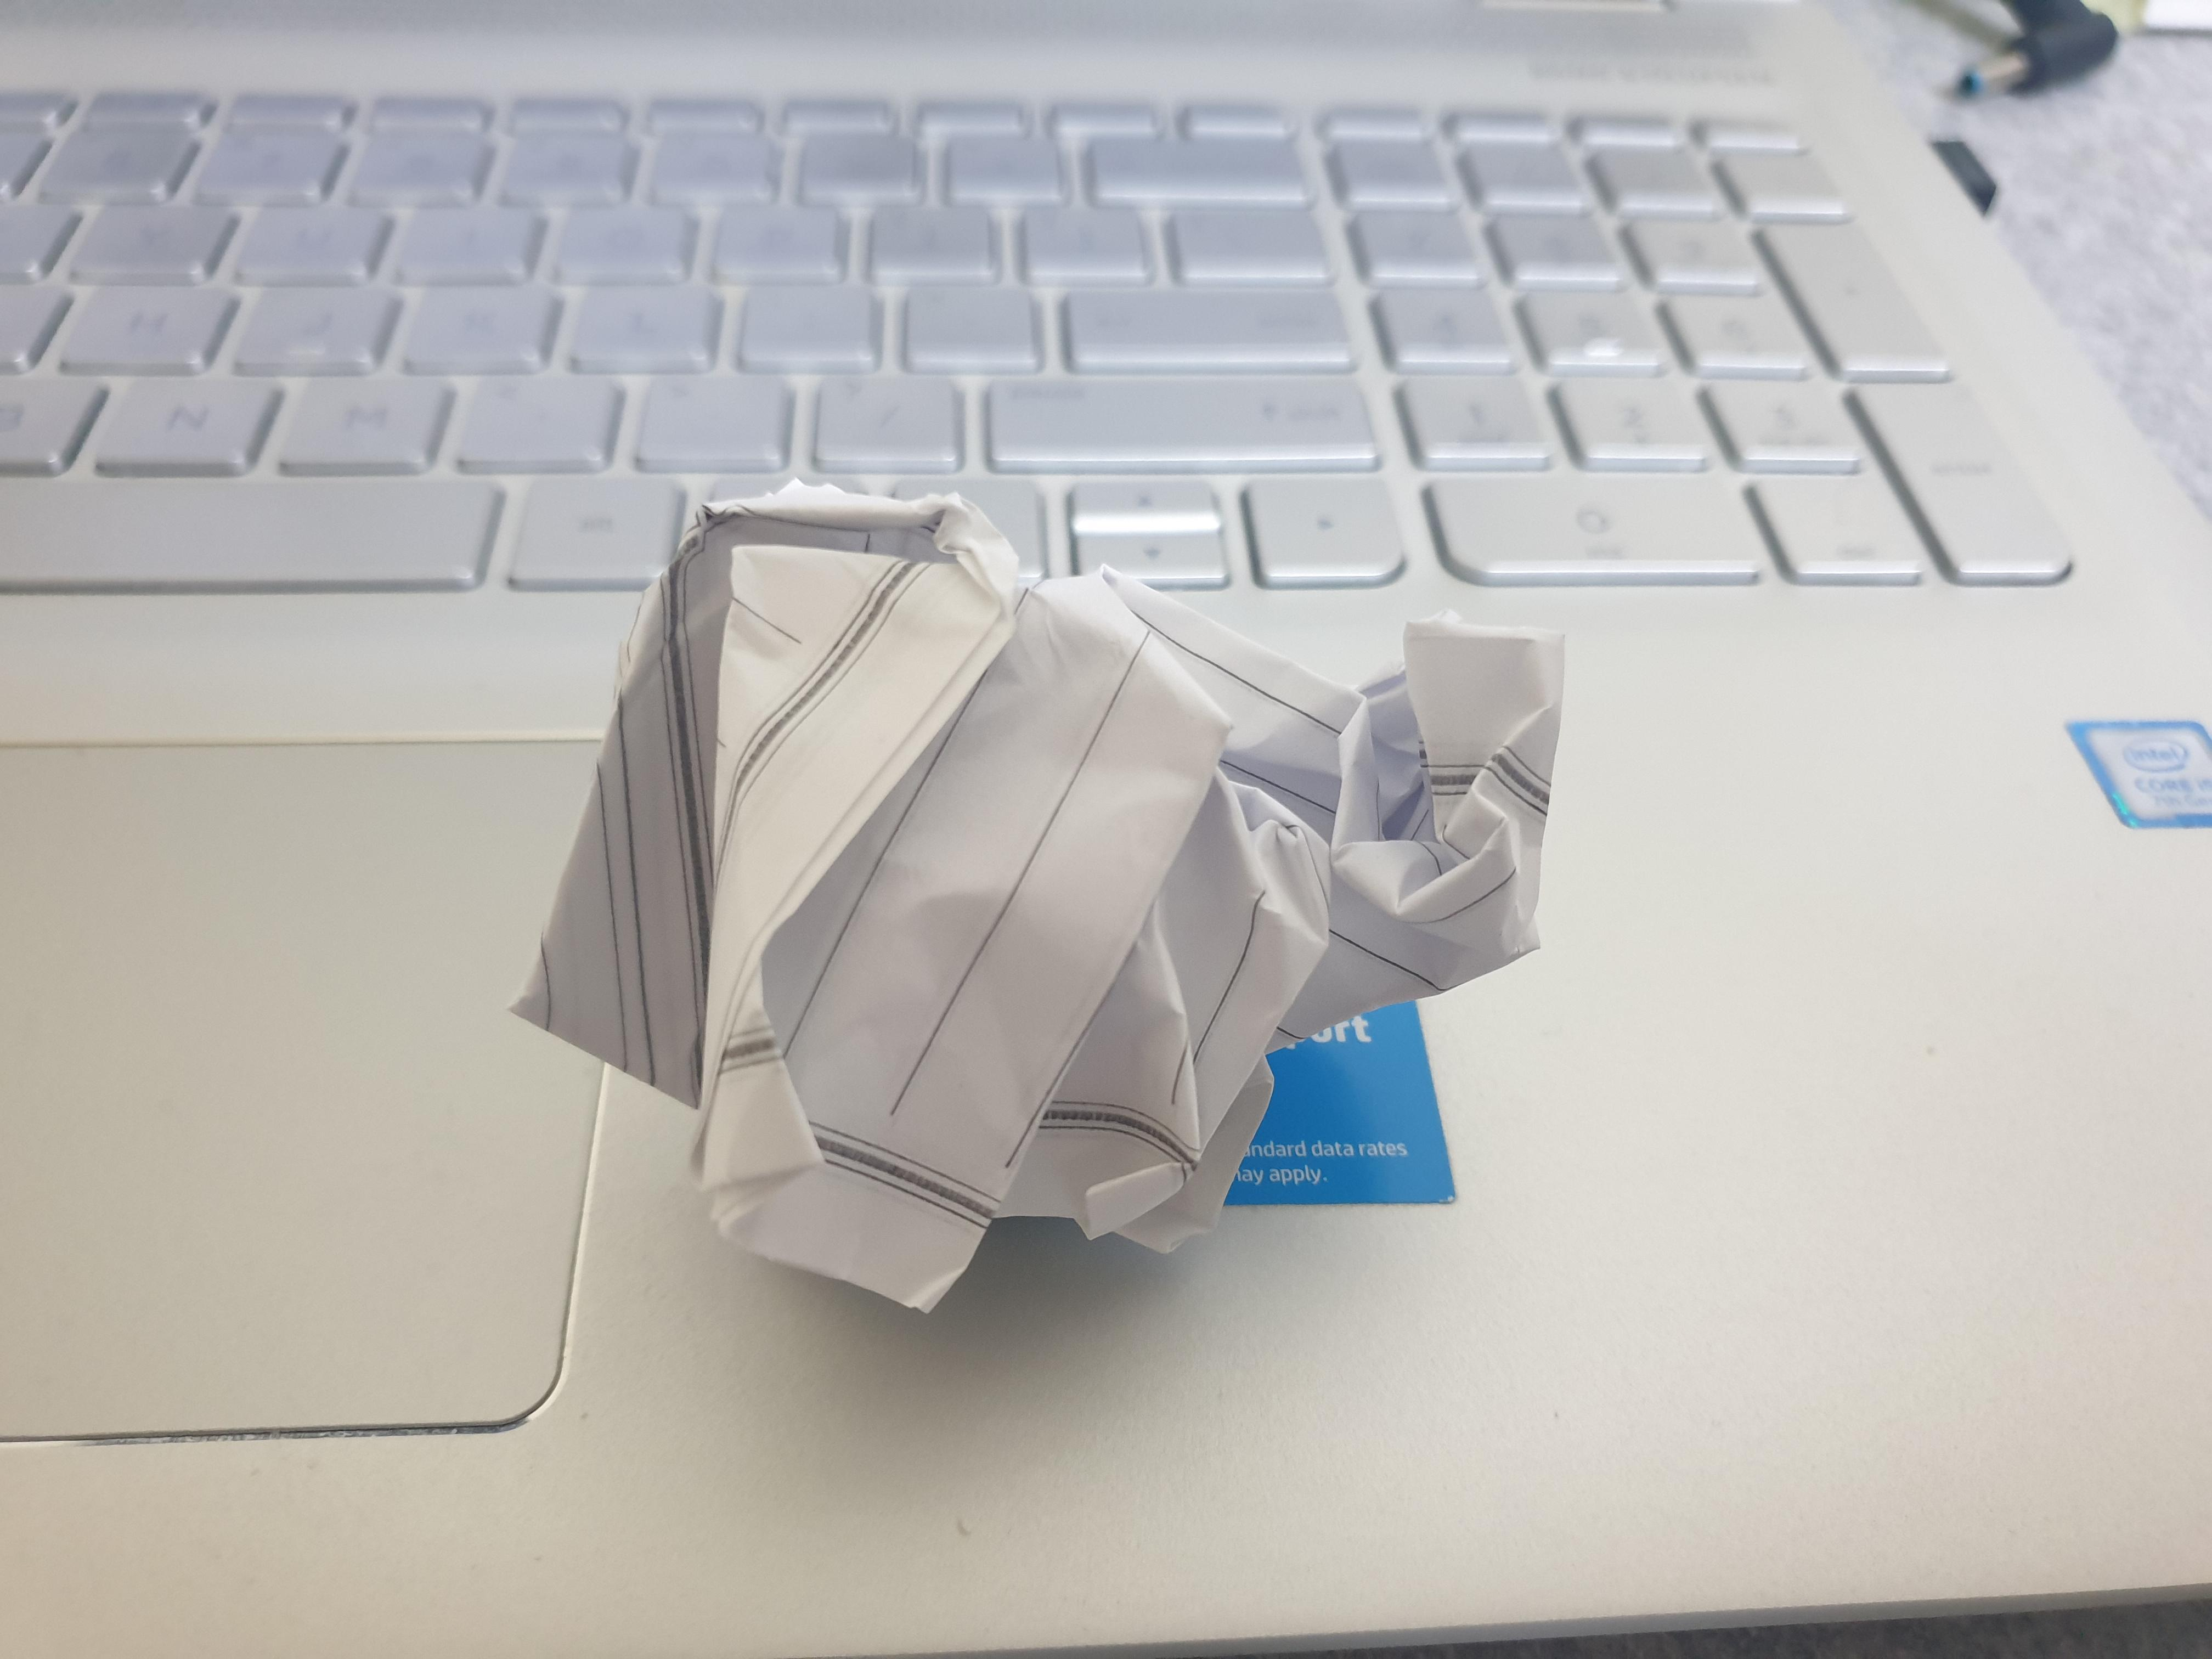Paper: (500, 459, 1585, 1331)
